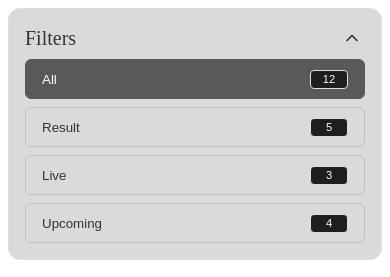
Test case: FilterBar › Mobile behavior (width < 1024) › toggle button toggles collapse state and aria attributes
Note: Click to collapse
Step 1. Click the button named "Collapse filters" → (352, 38), box [339,25,365,51]
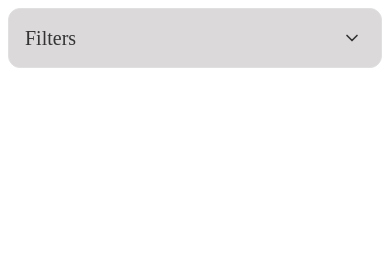
Check: the button named "Expand filters" is collapsed
Note: Click to expand again
Step 2. Click the button named "Expand filters" → (352, 38), box [339,25,365,51]
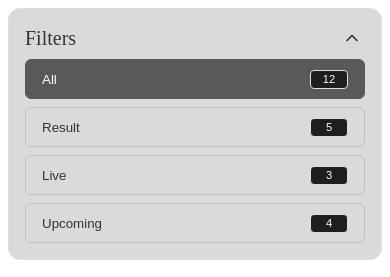
Check: the button named "Collapse filters" is expanded, box [339,25,365,51]
